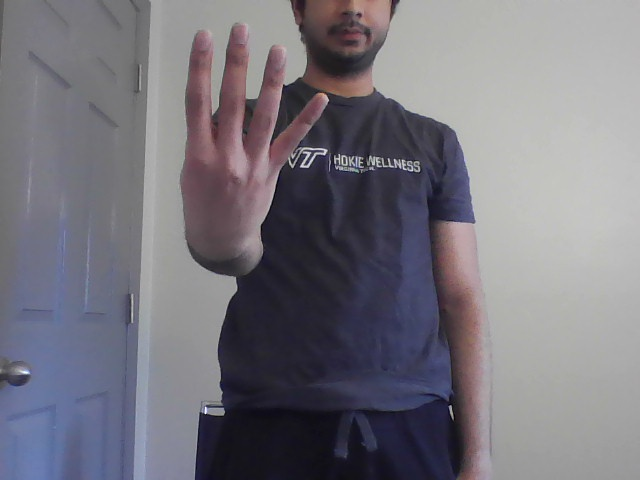four: (174, 16, 330, 228)
